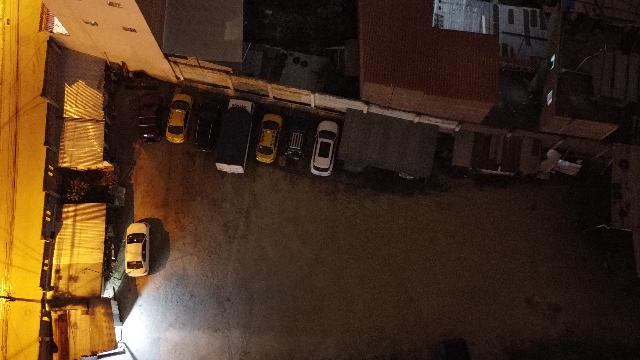Vehiculo: (278, 115, 310, 167), (310, 120, 338, 176), (192, 101, 220, 153), (124, 222, 150, 276), (165, 93, 193, 143), (255, 113, 282, 163), (138, 94, 162, 142)
